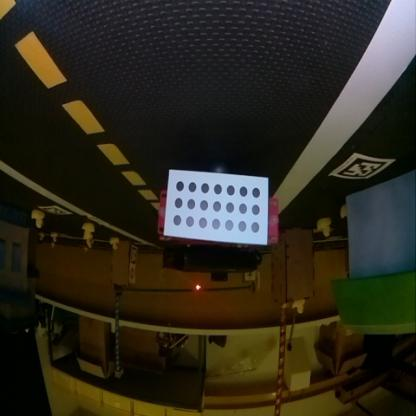Duckie: (316, 219, 330, 238), (30, 210, 40, 229), (82, 224, 93, 238), (294, 300, 305, 314), (110, 238, 118, 250)
Duckiebot: (158, 170, 278, 274)
QR code: (333, 156, 389, 180), (42, 208, 68, 216)
